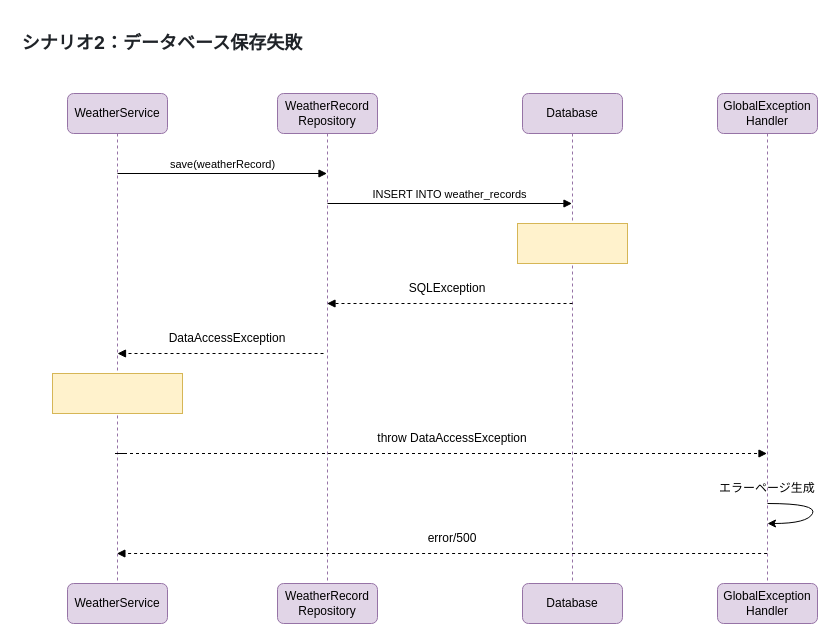
The diagram is 835 pixels wide and 641 high, and some of its shapes have lost their labels. Here are the shapes that lost their labels. From the top down, the centre of each, then its label:
At point (572, 243): "ディスク容量不足".
At point (117, 393): "@Transactional により 自動ロールバック".
